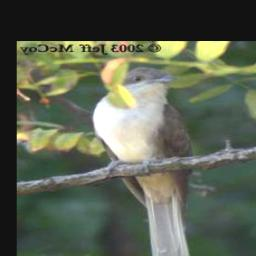Cuckoo: (92, 66, 199, 256)
